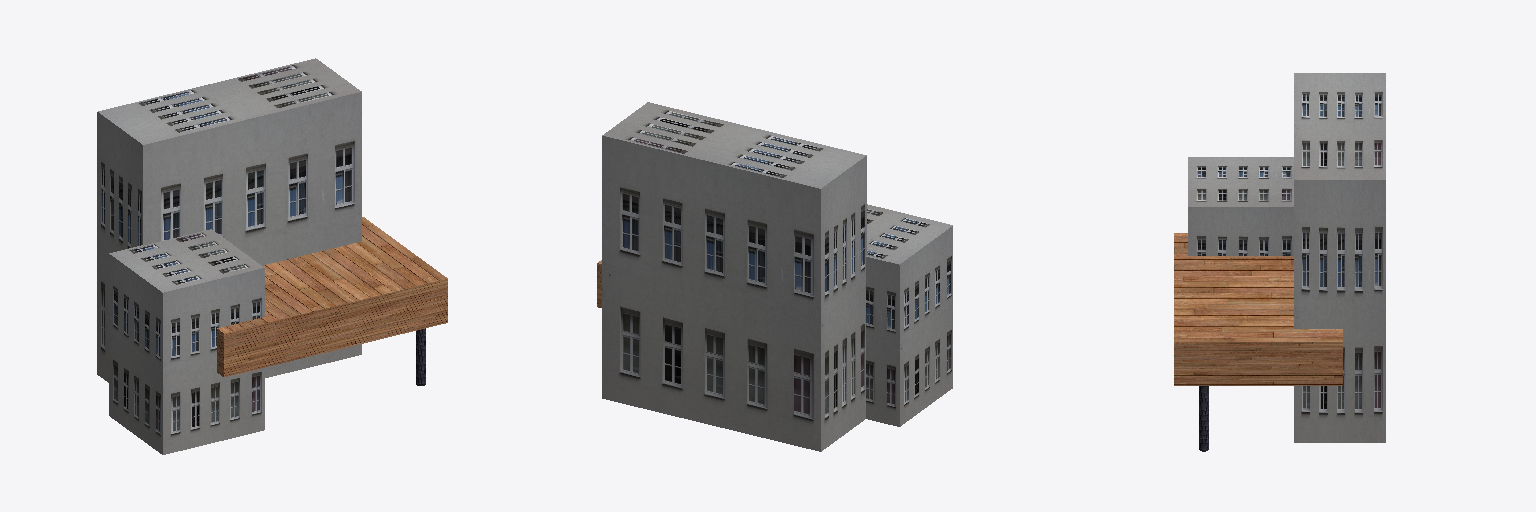
The picture shows the model from 3 angles: view 1: azimuth 30°, elevation 25°; view 2: azimuth 150°, elevation 25°; view 3: azimuth 270°, elevation 25°; orthographic projection.
Visible parts, largest first — view 1: Box002, Box001, Box003, Cylinder002; view 2: Box002, Box001; view 3: Box002, Box003, Box001, Cylinder002.
Boxes of the visible parts, x1=… form: Box002: x1=97, y1=58, x2=361, y2=382; Box001: x1=109, y1=229, x2=264, y2=454; Box003: x1=217, y1=217, x2=447, y2=376; Cylinder002: x1=416, y1=328, x2=425, y2=385; Box002: x1=602, y1=102, x2=866, y2=451; Box001: x1=866, y1=204, x2=952, y2=426; Box002: x1=1294, y1=73, x2=1385, y2=442; Box003: x1=1174, y1=233, x2=1342, y2=385; Box001: x1=1188, y1=157, x2=1293, y2=255; Cylinder002: x1=1199, y1=386, x2=1208, y2=451.
Bounding box in the file's own units: 1.09 × 0.9799 × 0.7129.
3 materials, 3 textured.